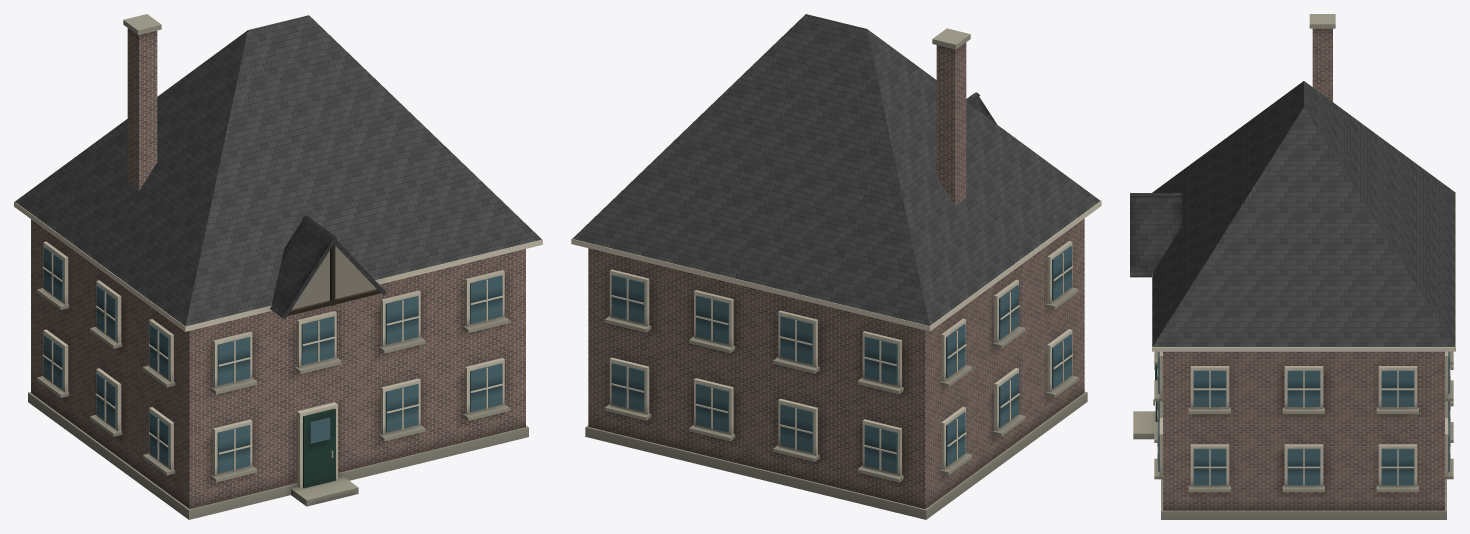
File: house-manor.glb
3 views of the same model, side by side, from view 1: azimuth 30°, elevation 25°; view 2: azimuth 150°, elevation 25°; view 3: azimuth 270°, elevation 25° (orthographic). The views are drawn at different scales.
Parts seen in each view (by area): view 1: Closed hip roof, Masonry shell, Opaque glazing (×13), Foundation, Chimney, Window surround (×7), Gable roof, Eaves, Entrance gable, Front door, Entry step, Door surround; view 2: Closed hip roof, Masonry shell, Opaque glazing (×14), Foundation, Window surround (×8), Chimney, Eaves; view 3: Closed hip roof, Masonry shell, Opaque glazing (×6), Gable roof, Window surround (×6), Foundation, Eaves, Chimney, Entry step, Chimney cap.
Boxes of the visible parts, x1,y1,x2,y2 form: Closed hip roof: (15,15,541,326); Masonry shell: (31,219,525,508); Opaque glazing (×13): (43,247,502,473); Foundation: (28,392,528,519); Chimney: (127,28,157,190); Window surround (×7): (213,270,504,476); Gable roof: (270,215,337,319); Eaves: (14,201,542,331); Entrance gable: (291,245,376,309); Front door: (303,408,335,488); Entry step: (291,476,358,506); Door surround: (297,402,337,488); Closed hip roof: (572,14,1100,325); Masonry shell: (588,218,1084,508); Opaque glazing (×14): (611,246,1071,473); Foundation: (585,391,1087,519); Window surround (×8): (609,269,901,476); Chimney: (936,42,966,205); Eaves: (571,200,1101,331); Closed hip roof: (1152,81,1455,346); Masonry shell: (1163,351,1444,510); Opaque glazing (×6): (1193,370,1414,485); Gable roof: (1130,193,1181,277); Window surround (×6): (1190,366,1417,486); Foundation: (1161,479,1446,519); Eaves: (1152,192,1455,351); Chimney: (1312,28,1332,101); Entry step: (1133,411,1155,439); Chimney cap: (1309,14,1335,28).
Bounding box in the file's own units: 11.7 × 13.13 × 10.4.
7 materials, 2 textured.
